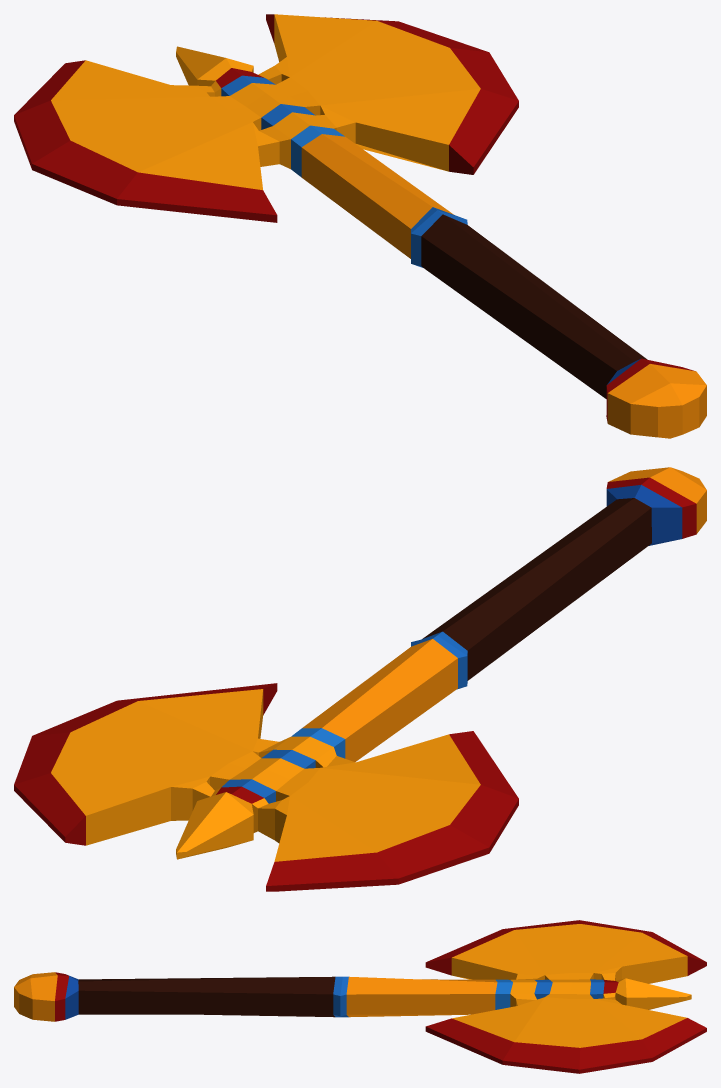
File: 19-Axe.fbx
The picture shows the model from 3 angles, top to bottom: view 1: azimuth 30°, elevation 25°; view 2: azimuth 150°, elevation 25°; view 3: azimuth 270°, elevation 25°; orthographic projection. The views are drawn at different scales.
Visible parts, largest first — view 1: Axe19; view 2: Axe19; view 3: Axe19.
Boxes of the visible parts, x1=… form: Axe19: x1=14, y1=14, x2=706, y2=438; Axe19: x1=14, y1=467, x2=706, y2=891; Axe19: x1=14, y1=920, x2=706, y2=1073.
Bounding box in the file's own units: 235 × 31.76 × 460.
